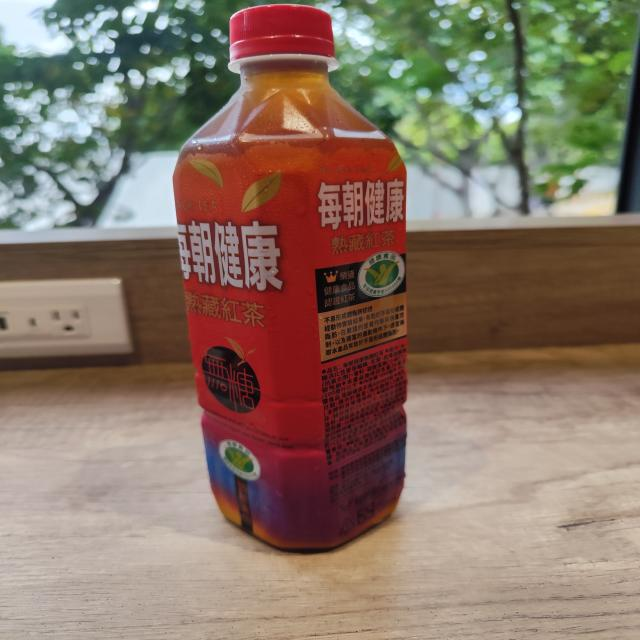MeiChou_BlackTea: (166, 2, 422, 560)
